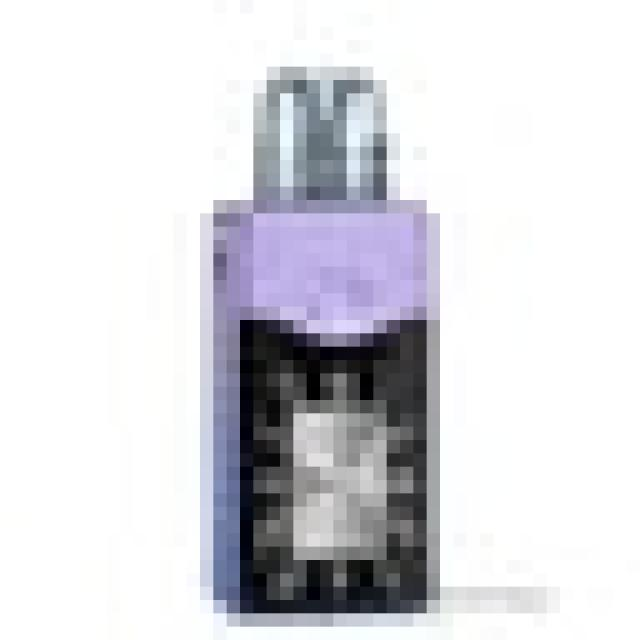Vapes: (200, 54, 440, 614)
